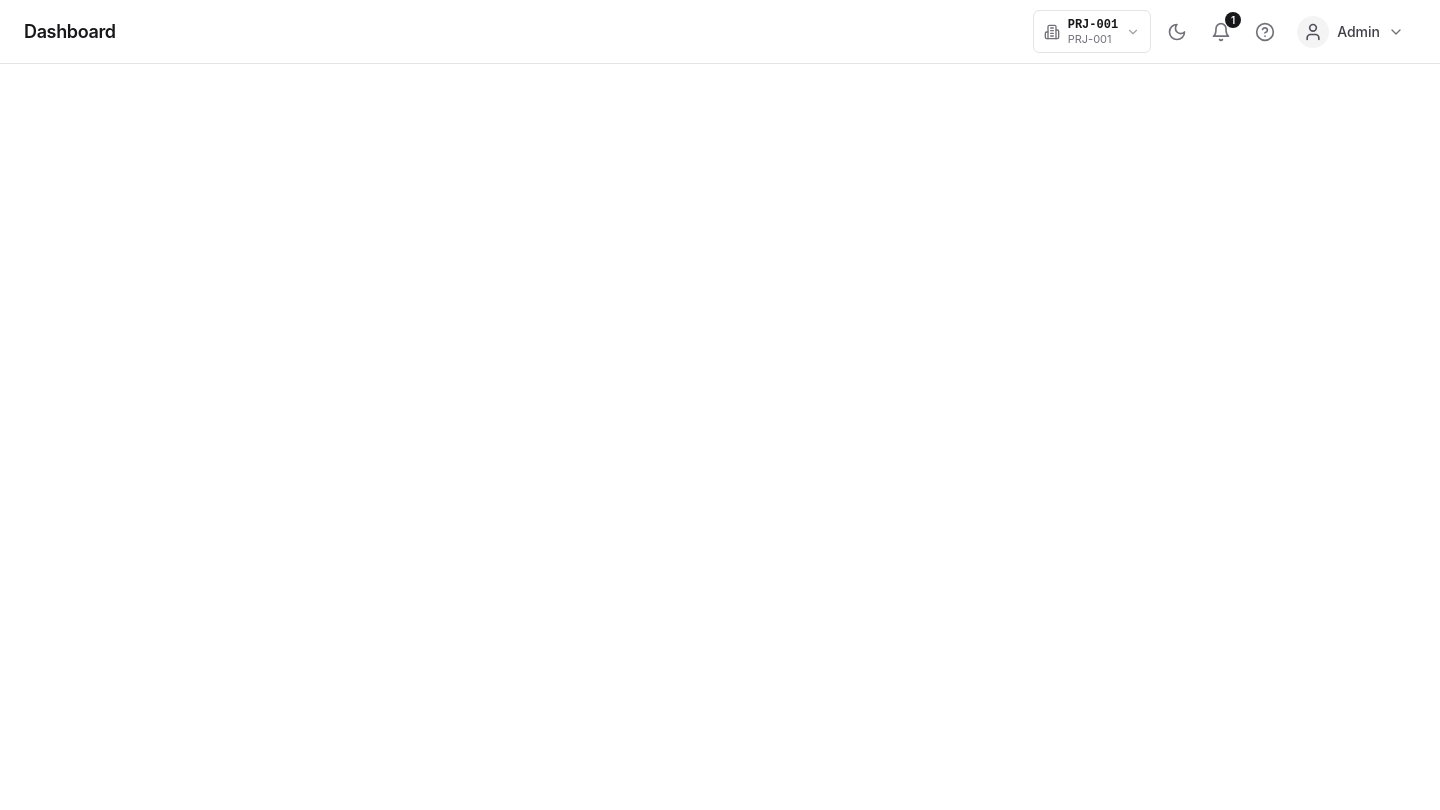
Test: notification bell › closes the panel on Escape and outside click
The image size is (1440, 810).
Click the button with test id "notifications-bell" at (1221, 32), box [1203,14,1239,50]
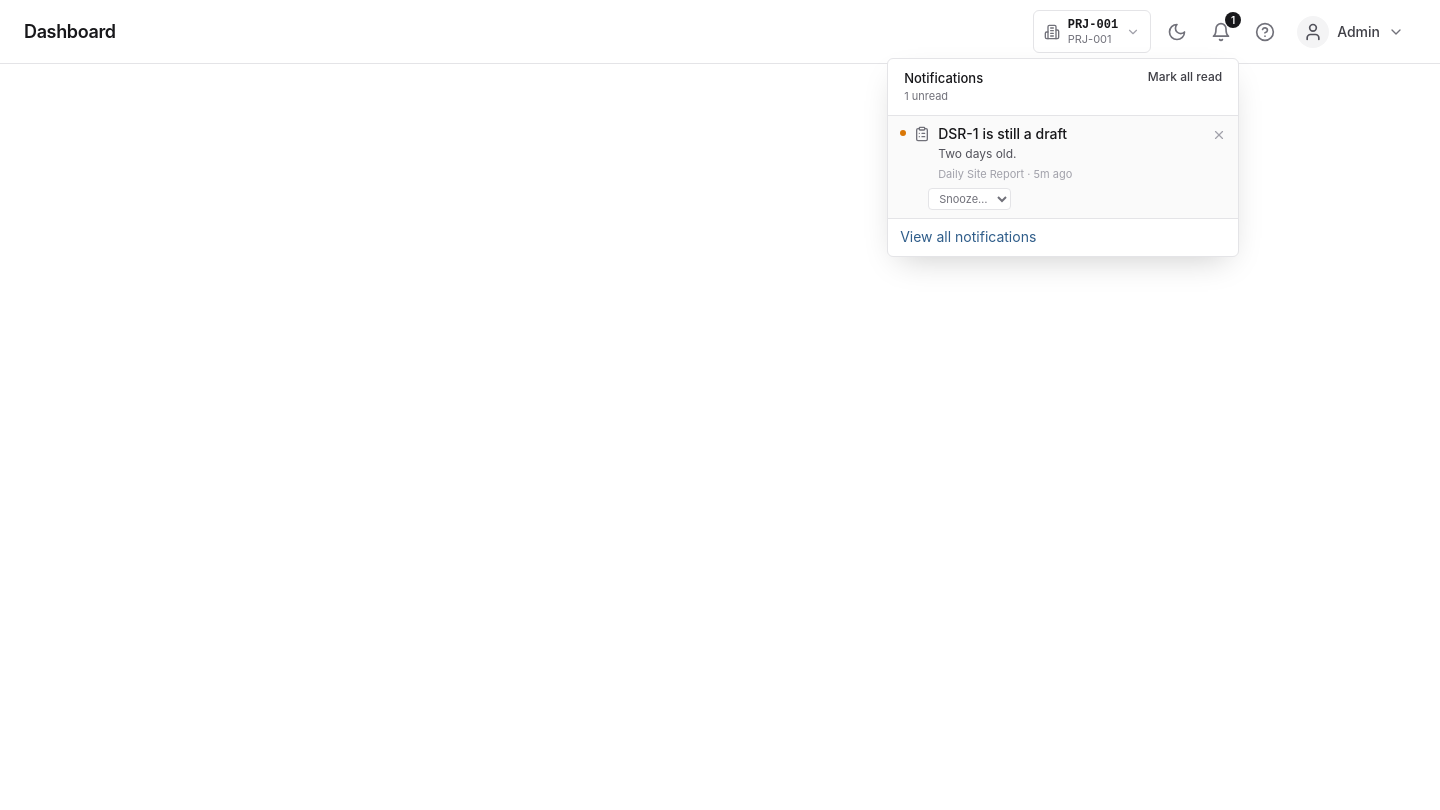
Press Escape
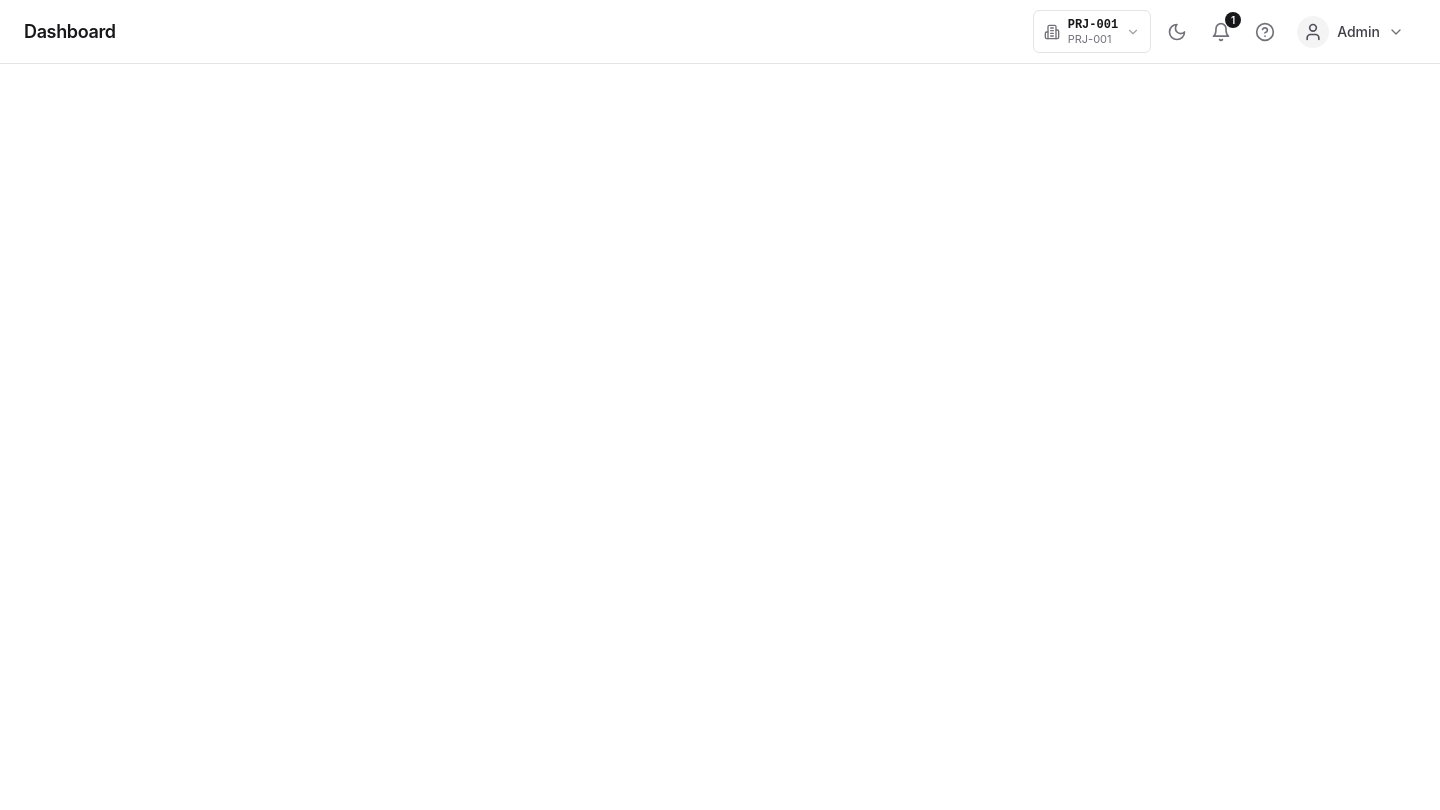
Check: the element with test id "notifications-panel" is gone
Click the button with test id "notifications-bell" at (1221, 32), box [1203,14,1239,50]
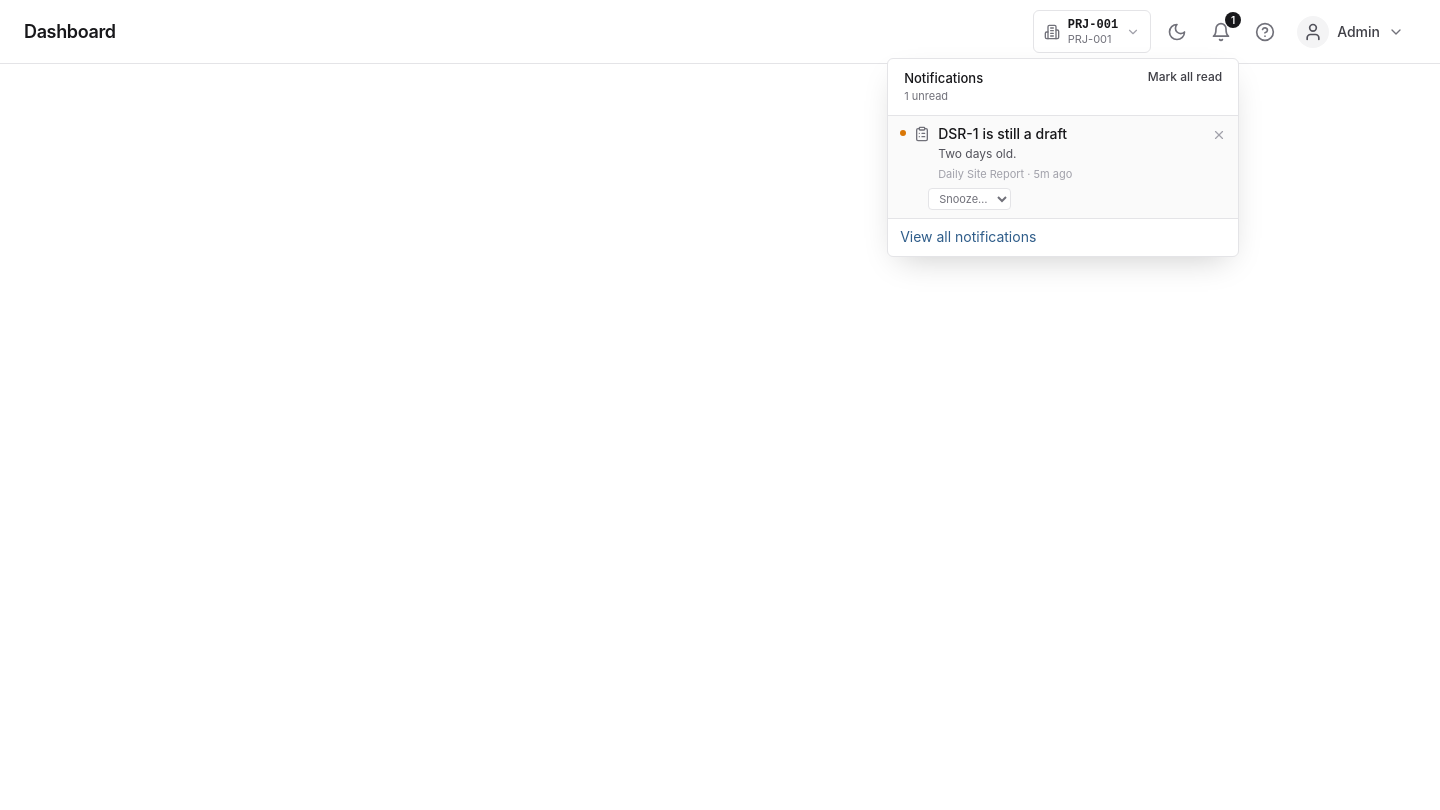
Press the mouse on the element that starts with "Dashboard" at (720, 405), box [0,0,1439,809]
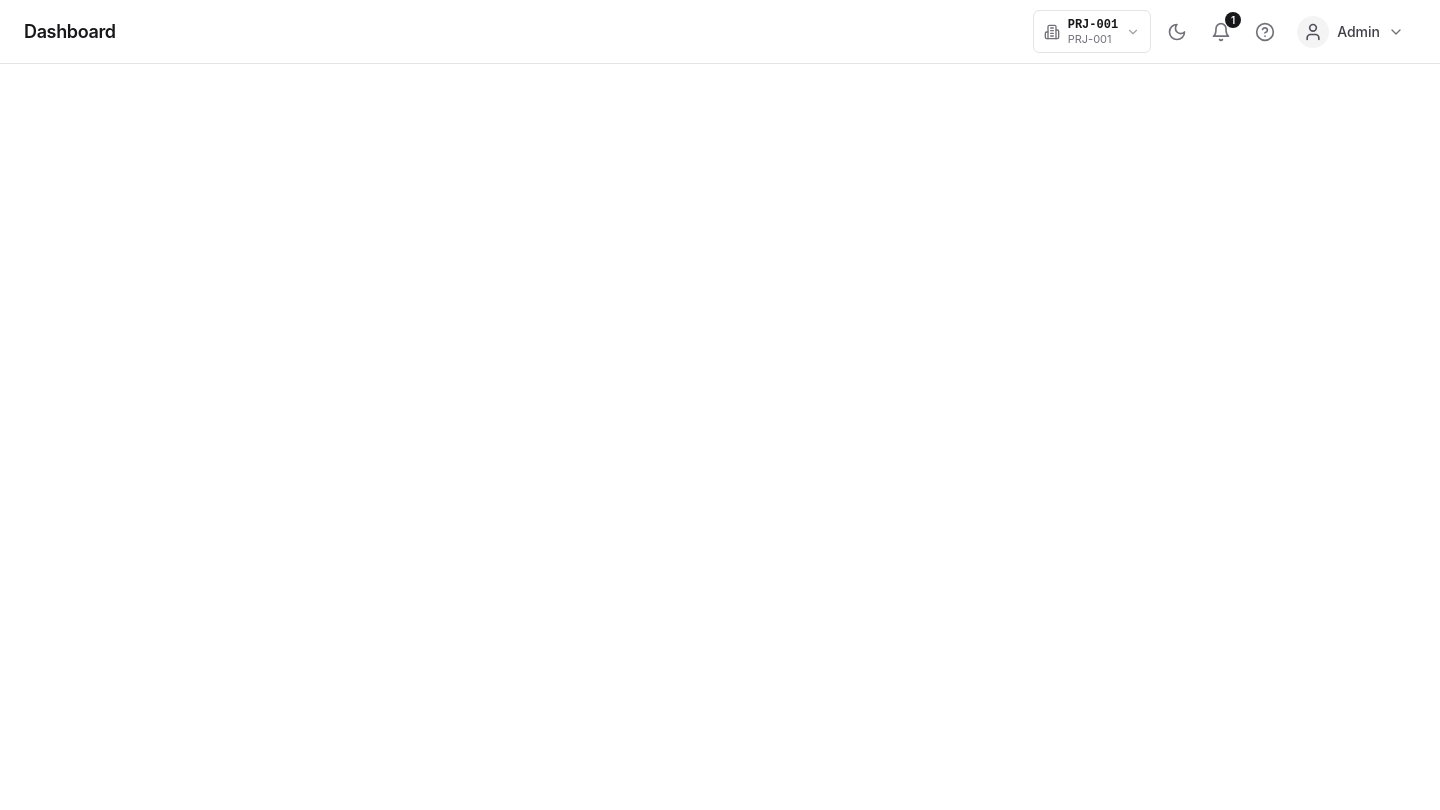
Check: the element with test id "notifications-panel" is gone
